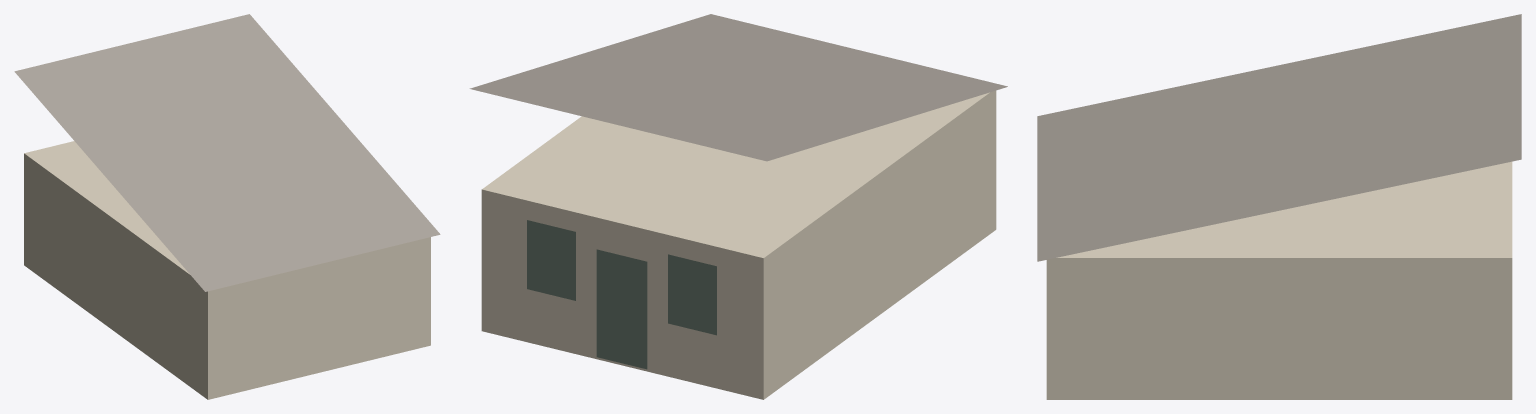
File: recon_1835_north_d2_003__recommended_1835.glb
3 views of the same model, side by side, from view 1: azimuth 30°, elevation 25°; view 2: azimuth 150°, elevation 25°; view 3: azimuth 270°, elevation 25° (orthographic). The views are drawn at different scales.
Visible parts, largest first — view 1: recon_1835_north_d2_003__recommended_1835; view 2: recon_1835_north_d2_003__recommended_1835; view 3: recon_1835_north_d2_003__recommended_1835.
Part boxes in pixels (x1=…): recon_1835_north_d2_003__recommended_1835: x1=14, y1=14, x2=440, y2=399; recon_1835_north_d2_003__recommended_1835: x1=469, y1=14, x2=1007, y2=399; recon_1835_north_d2_003__recommended_1835: x1=1037, y1=14, x2=1521, y2=399.
Size of the model in its own units: 4.51 by 3.53 by 6.34.
